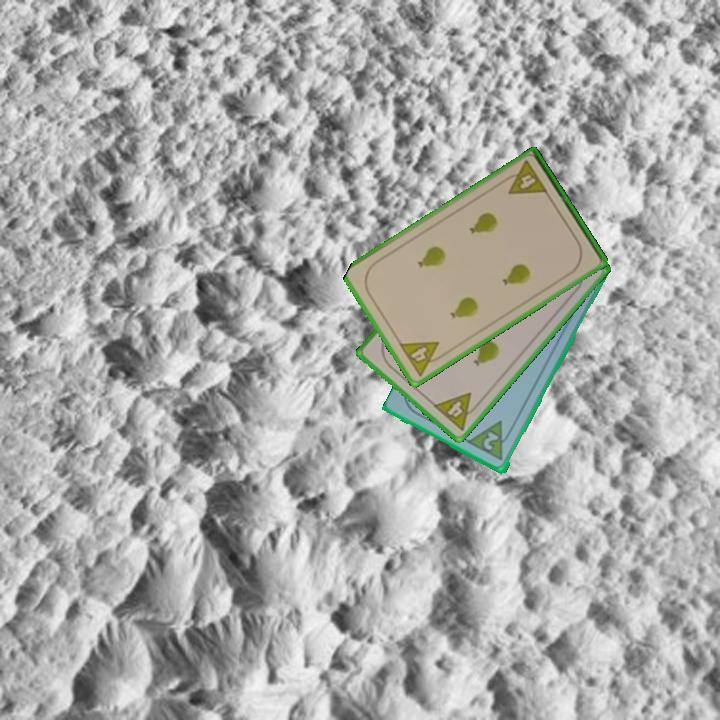2p: (466, 417, 516, 464)
4p: (430, 389, 484, 433), (395, 338, 449, 379), (499, 157, 551, 198)
